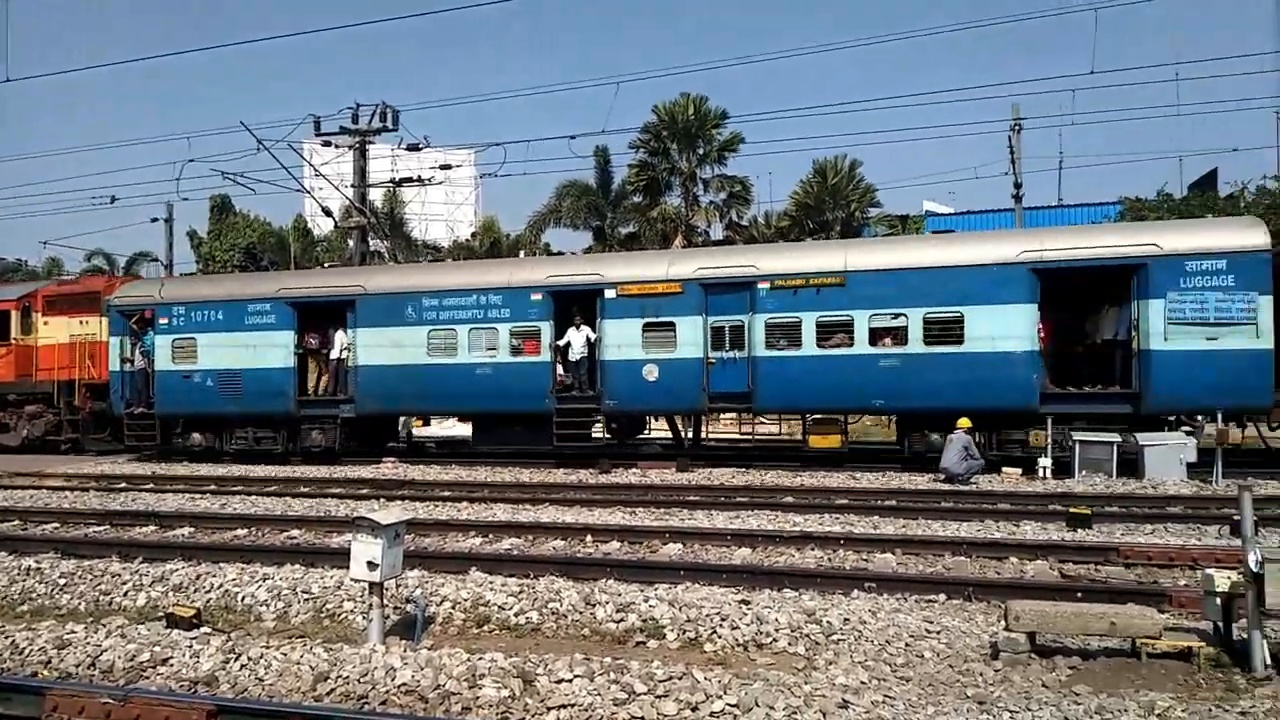Boogie: (191, 306, 230, 328)
Car Type: (394, 289, 524, 328), (1155, 250, 1252, 293)
